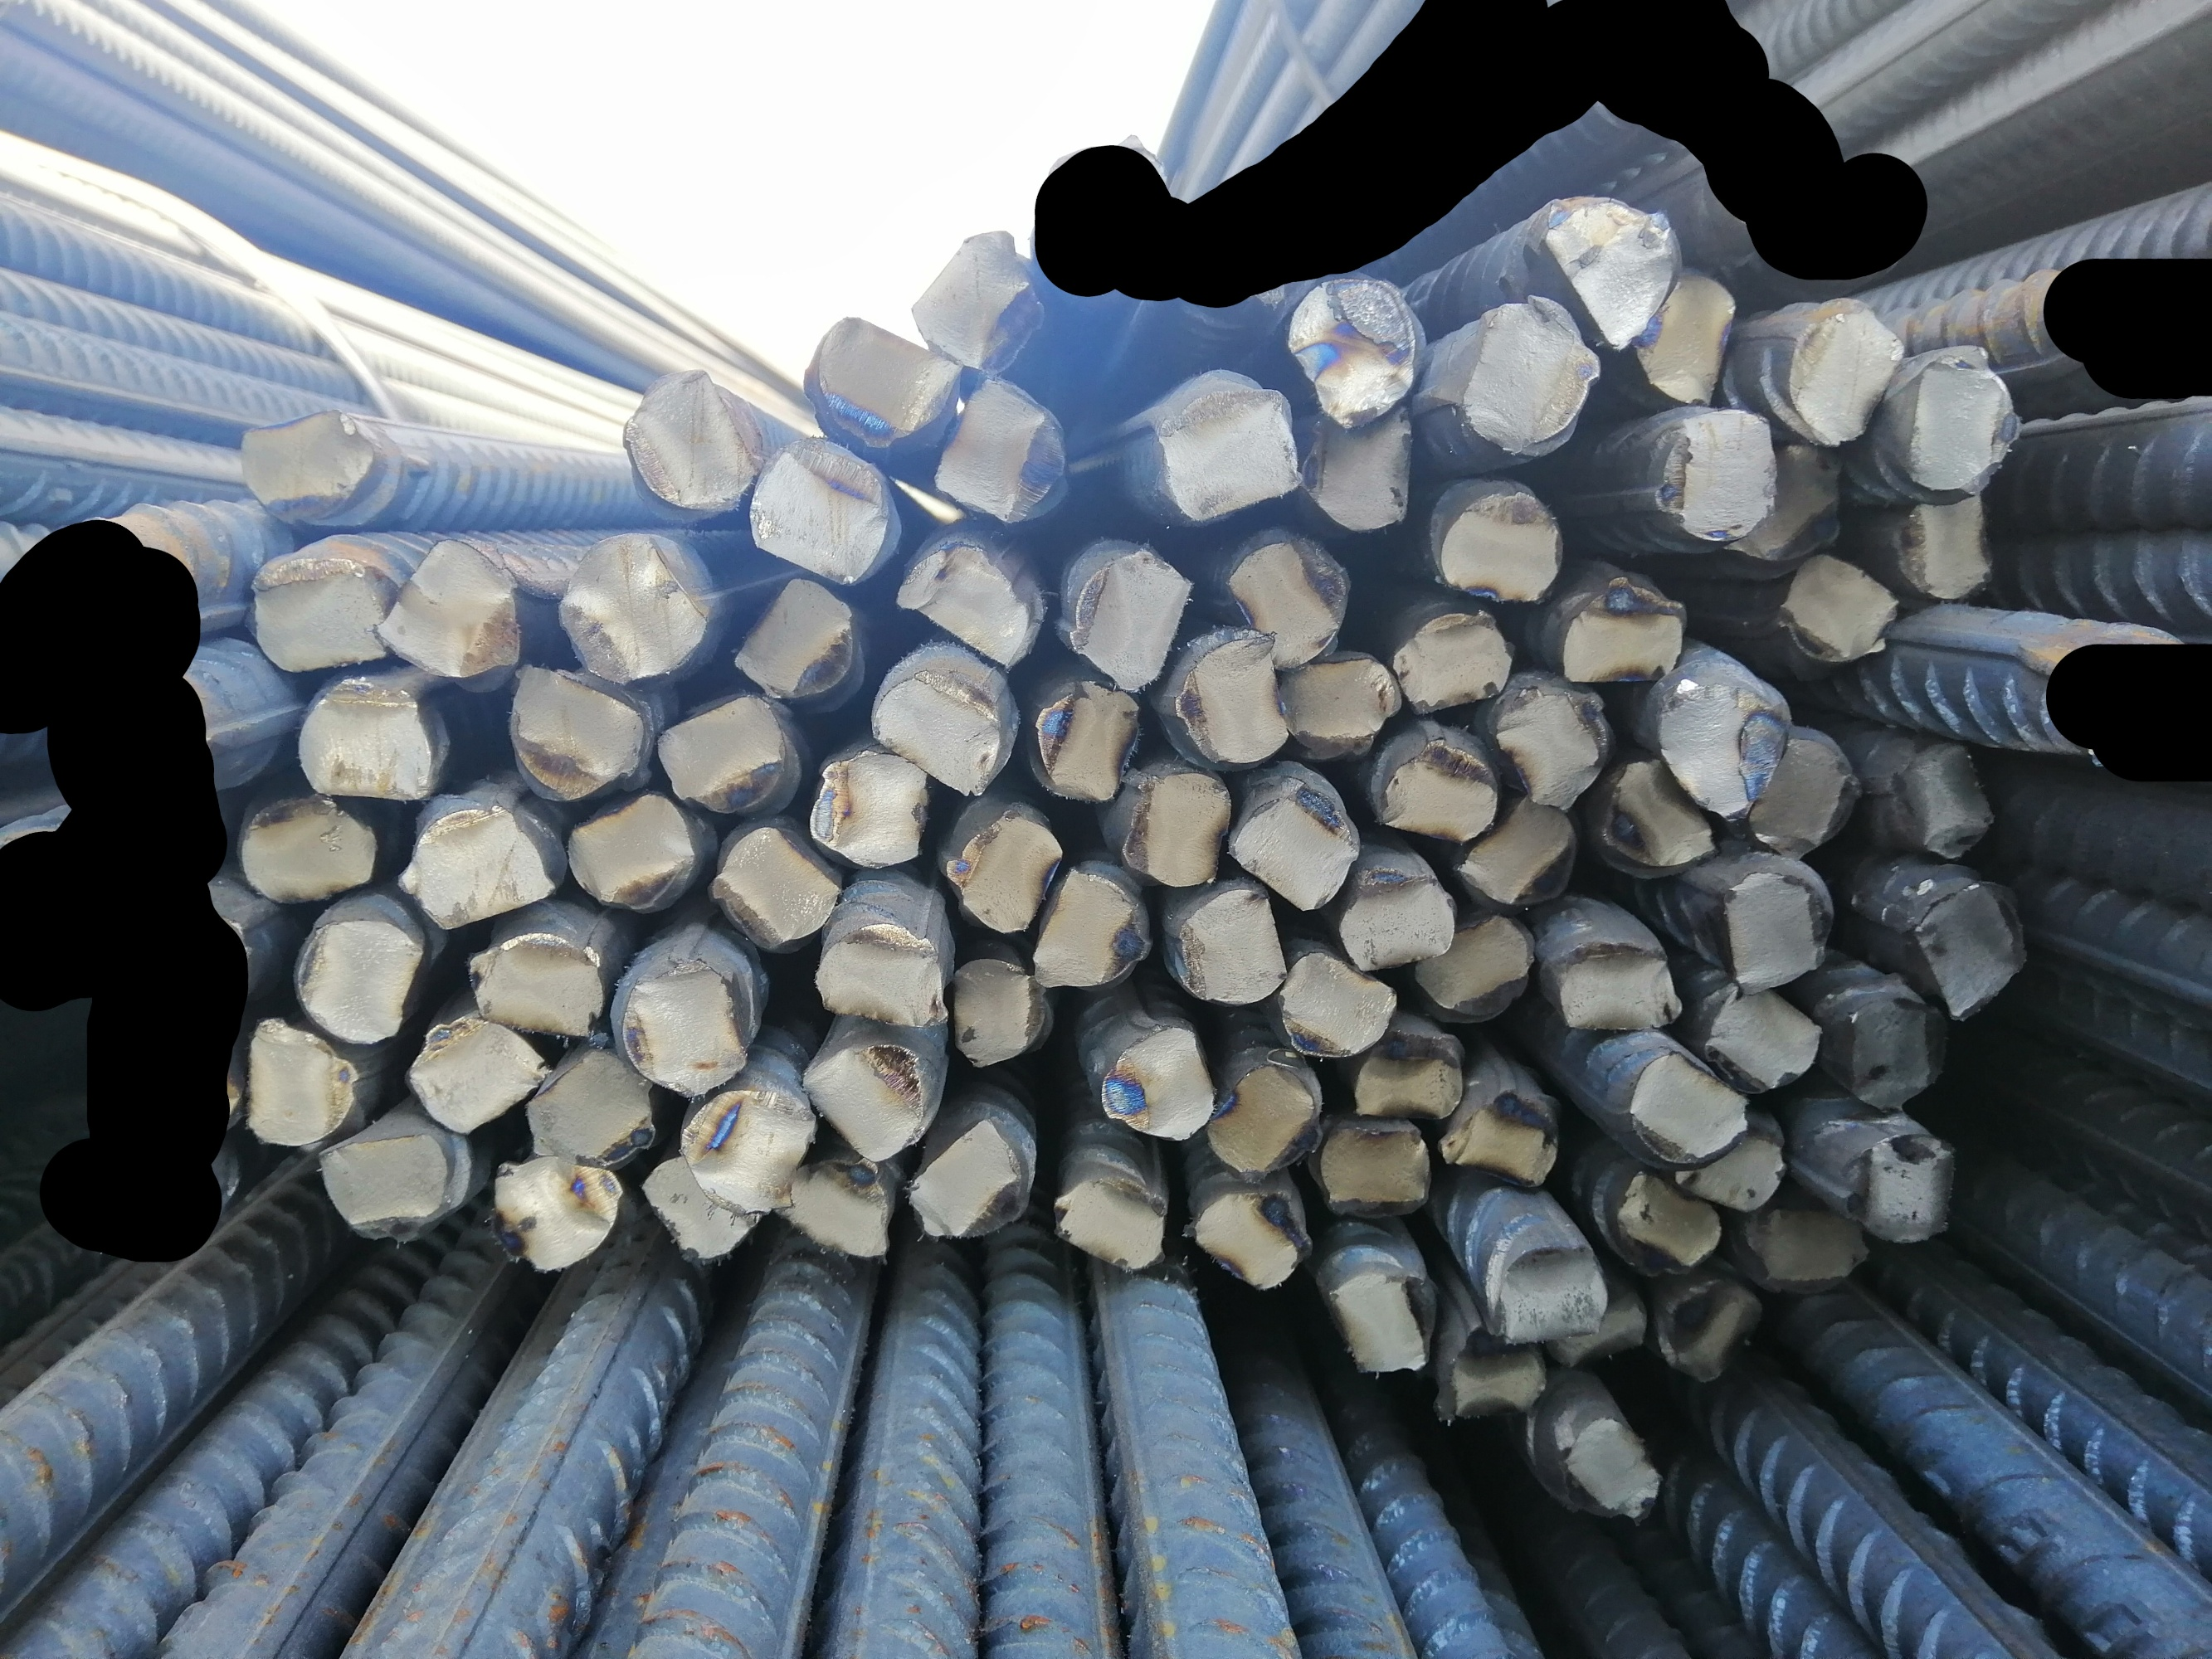rebar: (1143, 373, 1309, 519), (553, 532, 708, 685), (870, 640, 1023, 795), (743, 441, 894, 594), (1285, 270, 1435, 425), (1539, 193, 1686, 352), (1459, 293, 1602, 453), (802, 308, 964, 448), (370, 538, 521, 687), (628, 354, 763, 512), (1893, 343, 2025, 505), (612, 950, 758, 1096), (919, 378, 1063, 526), (396, 802, 558, 932), (1661, 659, 1792, 821), (1778, 293, 1910, 451), (889, 528, 1039, 667), (675, 1077, 819, 1220), (910, 227, 1048, 373), (1069, 540, 1203, 690), (502, 662, 645, 802), (295, 678, 446, 809), (654, 688, 797, 824), (235, 406, 392, 530), (1285, 397, 1424, 535), (305, 1129, 462, 1249), (1225, 525, 1353, 671), (237, 788, 385, 913), (291, 913, 420, 1056), (242, 549, 389, 674), (403, 1011, 547, 1134), (1903, 878, 2024, 1026), (553, 795, 697, 917), (465, 929, 612, 1047), (1227, 782, 1356, 915), (1170, 627, 1290, 769), (947, 803, 1070, 939), (237, 1009, 356, 1150), (709, 823, 840, 950), (802, 1037, 934, 1162), (1492, 676, 1616, 810), (516, 1044, 654, 1164), (1658, 401, 1776, 540), (730, 573, 859, 701), (805, 744, 933, 873), (1372, 718, 1499, 845), (1727, 436, 1851, 566), (1745, 732, 1867, 864), (1093, 1019, 1222, 1143), (1595, 755, 1724, 878), (1715, 864, 1832, 1000), (485, 1155, 626, 1267), (1116, 762, 1238, 890), (1612, 1047, 1747, 1164), (1626, 268, 1740, 406), (1032, 866, 1157, 990), (1698, 979, 1829, 1098), (1168, 878, 1290, 1004), (1834, 1127, 1963, 1246), (1436, 483, 1562, 601), (1274, 950, 1401, 1066), (906, 1122, 1037, 1236), (1455, 791, 1579, 910), (1210, 1056, 1327, 1182), (1028, 674, 1147, 796), (1415, 910, 1537, 1028), (1544, 934, 1686, 1035), (1279, 643, 1400, 762), (1393, 598, 1515, 714), (1485, 1234, 1609, 1349), (816, 925, 952, 1030), (1891, 479, 2001, 606), (1776, 552, 1900, 664), (1339, 864, 1457, 979), (641, 1154, 765, 1263), (1841, 986, 1947, 1114), (1323, 1258, 1440, 1373), (1886, 742, 1999, 861), (1738, 1199, 1872, 1298), (1560, 577, 1689, 680), (1189, 1187, 1313, 1293), (1438, 1086, 1560, 1192), (1555, 1412, 1668, 1525), (1346, 1025, 1466, 1129), (1048, 1168, 1171, 1267), (788, 1152, 896, 1265), (1607, 1168, 1724, 1272), (1659, 1270, 1762, 1389), (1316, 1121, 1436, 1220), (1436, 1319, 1548, 1424), (1673, 1121, 1795, 1213), (948, 957, 1041, 1072), (1544, 1274, 1647, 1377)
